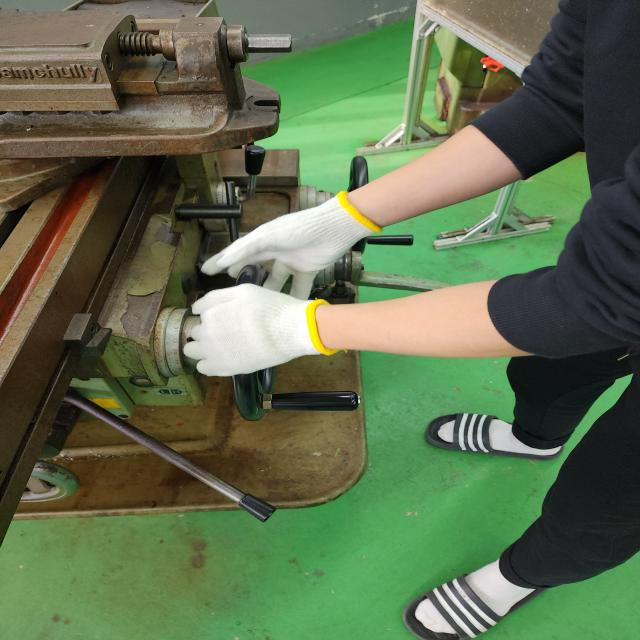Boots: (203, 188, 384, 278), (185, 282, 340, 375)
